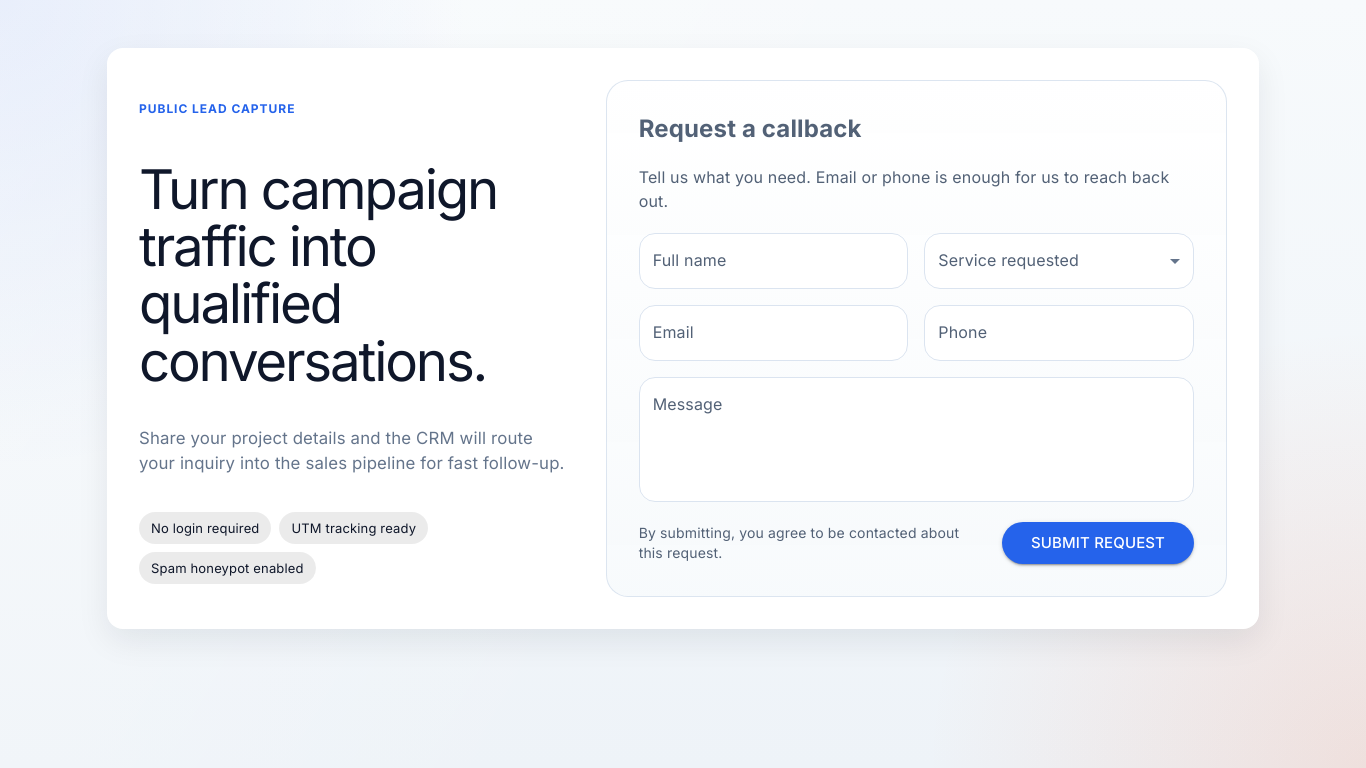
Landing feature › validates public landing input formats
Expected: the heading "Request a callback" is shown, 639,114 -> 862,143
In the field labelled "Full name": x=774, y=261 639,233 -> 908,289, type "Zeynep 123"
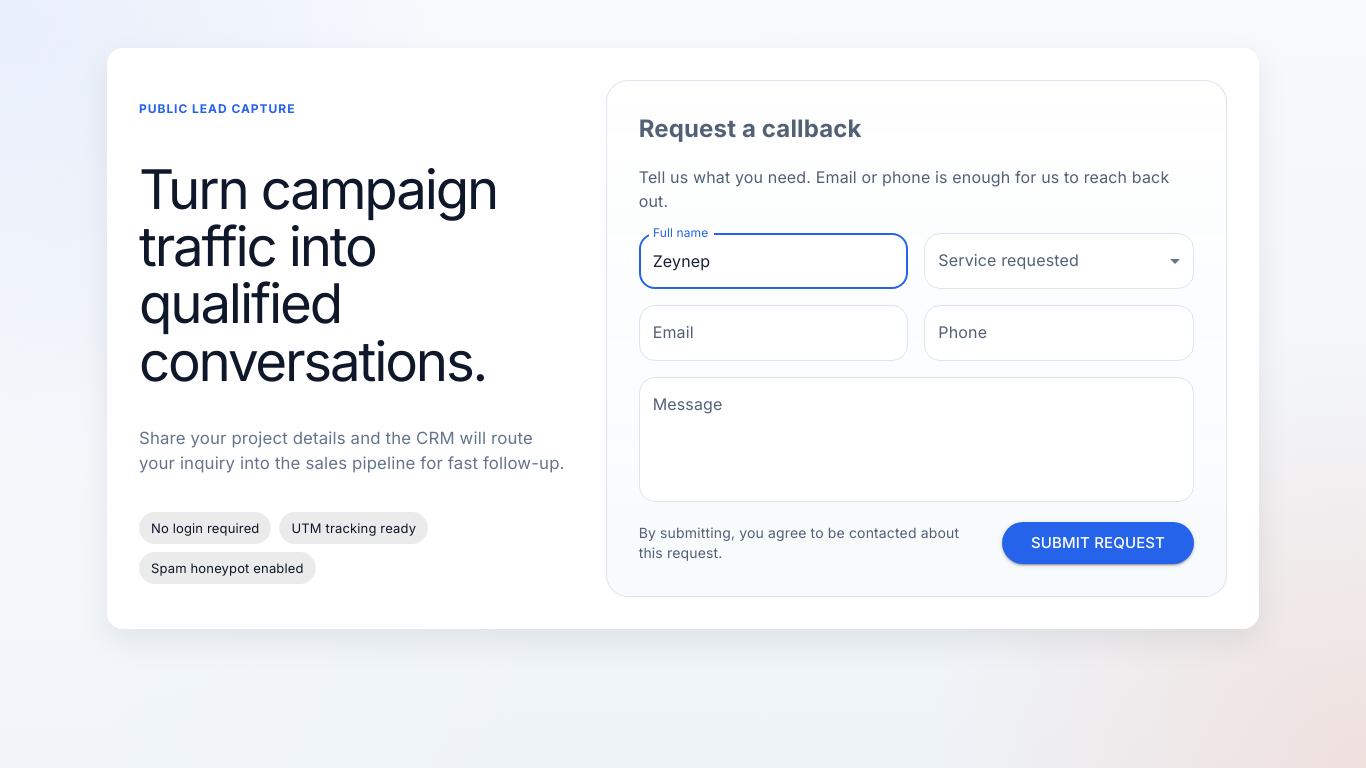
In the field labelled "Email": x=774, y=333 639,305 -> 908,361, type "ziadk@ff"
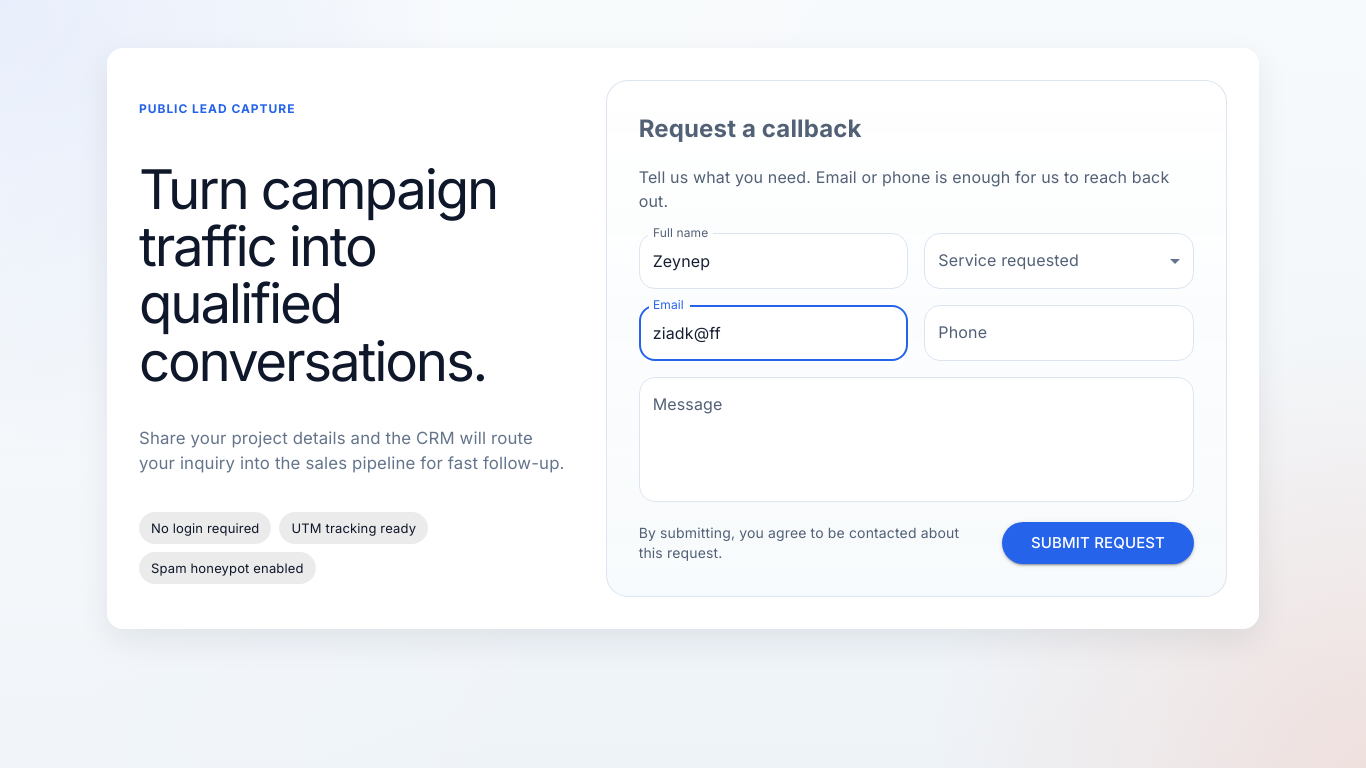
In the field labelled "Phone": x=1059, y=333 924,305 -> 1194,361, type "90555abc"
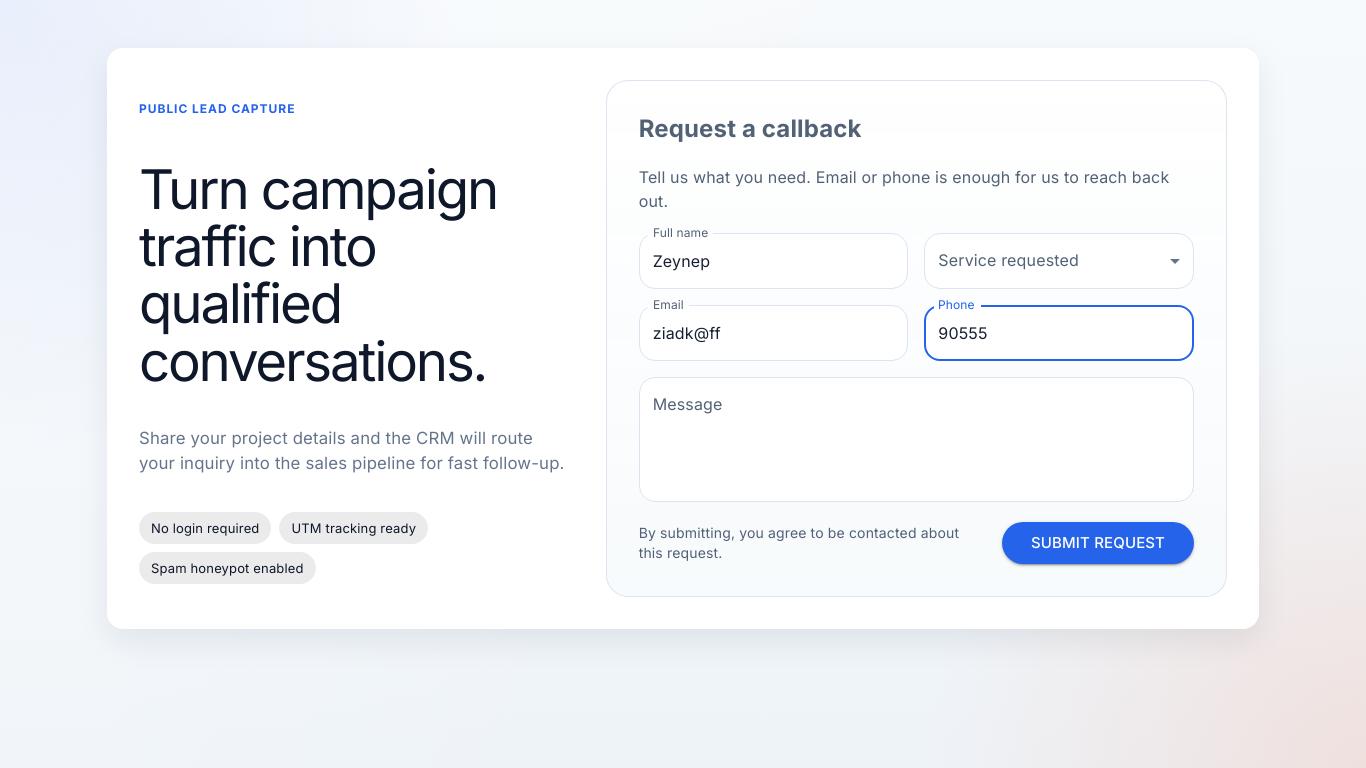
Click the dropdown named "Service requested": x=1059, y=261 924,233 -> 1194,289
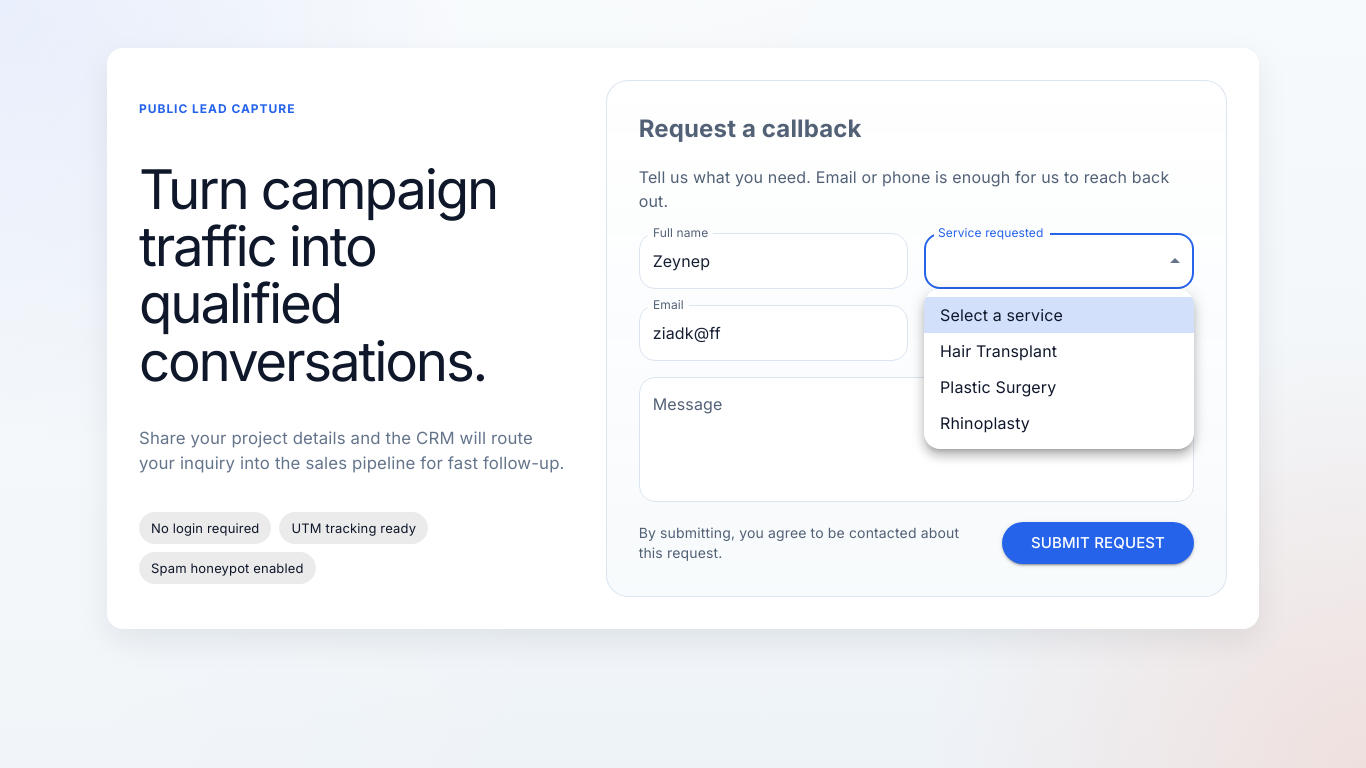
Click the option "Plastic Surgery": x=998, y=387 940,377 -> 1056,397
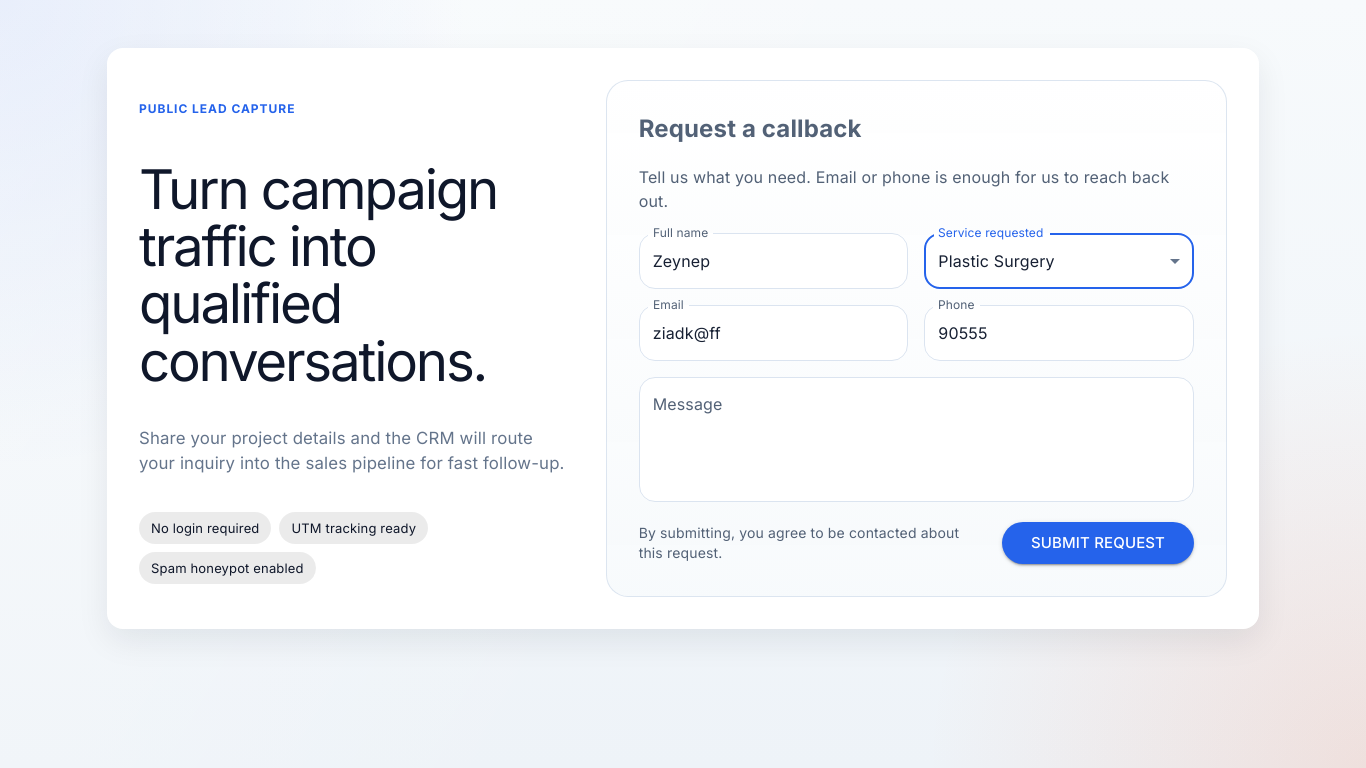
Click the button "Submit request": x=1098, y=543 1002,522 -> 1194,564
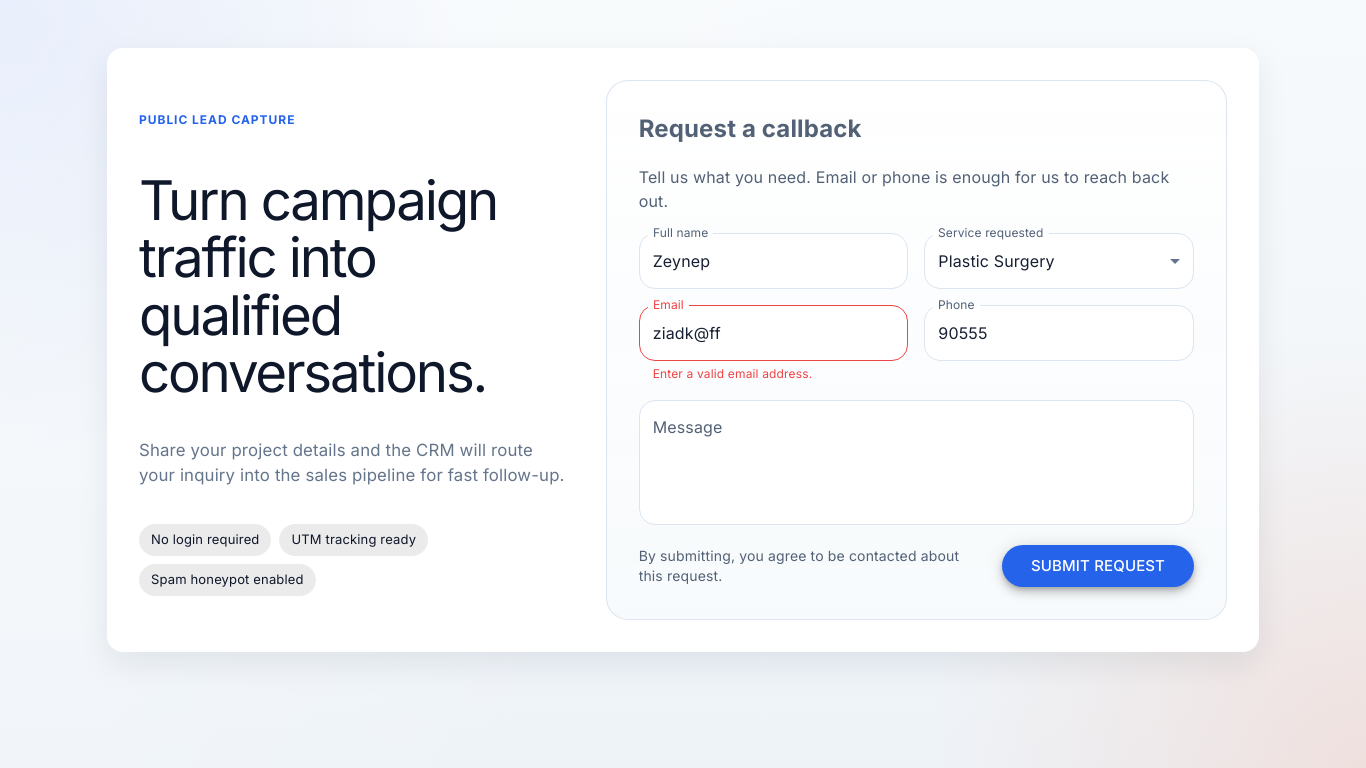
Expected: the field labelled "Full name" holds "Zeynep ", 639,233 -> 908,289
Expected: the field labelled "Phone" holds "90555", 924,305 -> 1194,361
Expected: the text "Enter a valid email address." is shown, 653,366 -> 812,381
